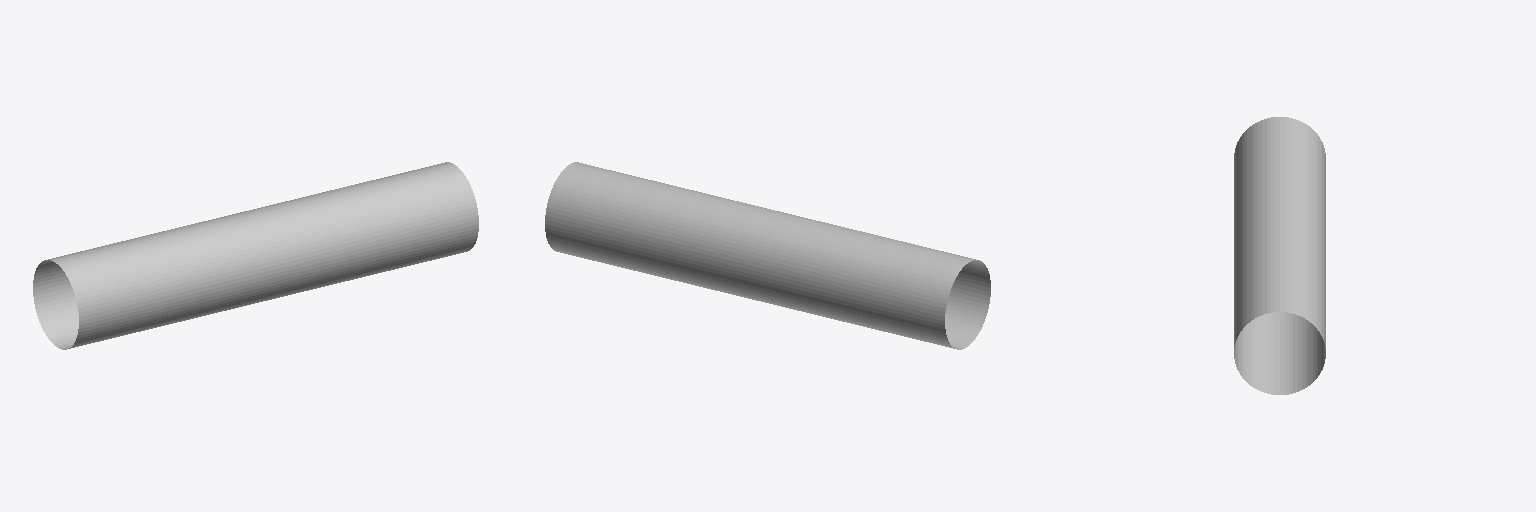
Rendered from cylnder.obj.
3 views of the same model, side by side, from view 1: azimuth 30°, elevation 25°; view 2: azimuth 150°, elevation 25°; view 3: azimuth 270°, elevation 25° (orthographic).
Parts seen in each view (by area): view 1: Cylinder_Cylinder.002; view 2: Cylinder_Cylinder.002; view 3: Cylinder_Cylinder.002.
Boxes of the visible parts, x1=… form: Cylinder_Cylinder.002: x1=33, y1=162, x2=478, y2=349; Cylinder_Cylinder.002: x1=545, y1=162, x2=990, y2=349; Cylinder_Cylinder.002: x1=1234, y1=117, x2=1325, y2=394.
Size of the model in its own units: 40 by 7.96 by 7.96.